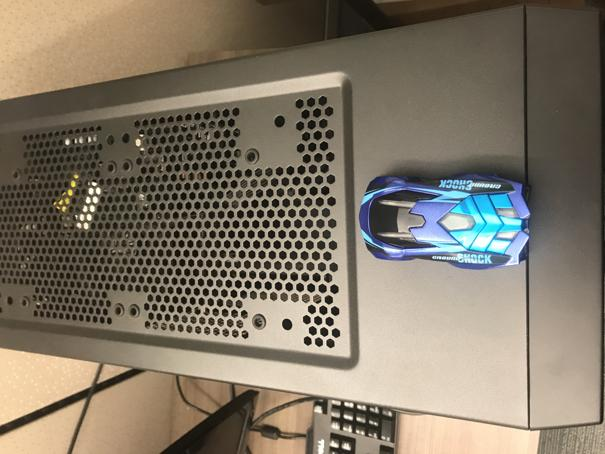Shock: (358, 170, 532, 269)
